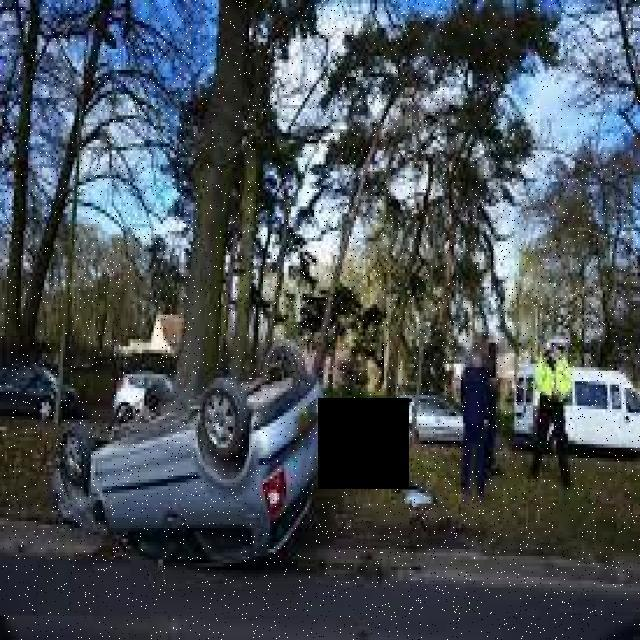severe: (41, 352, 330, 576)
